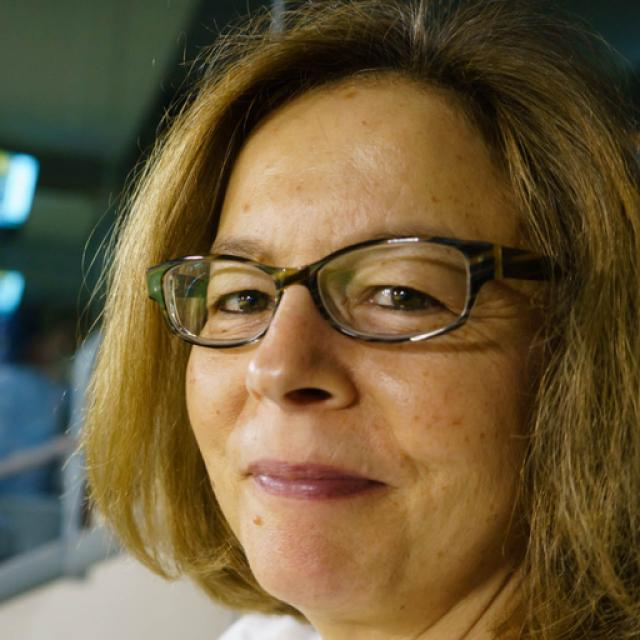Acne: (245, 509, 265, 531)
